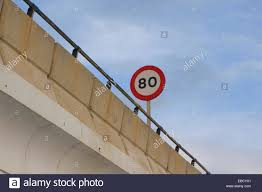Speed_limit_80km: (130, 65, 165, 100)
